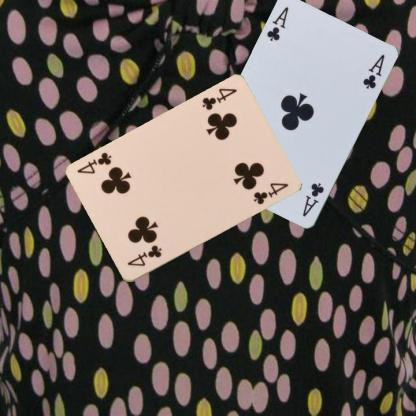4c: (199, 86, 238, 112), (124, 243, 164, 268)
Ac: (264, 4, 290, 43), (300, 180, 325, 218)
